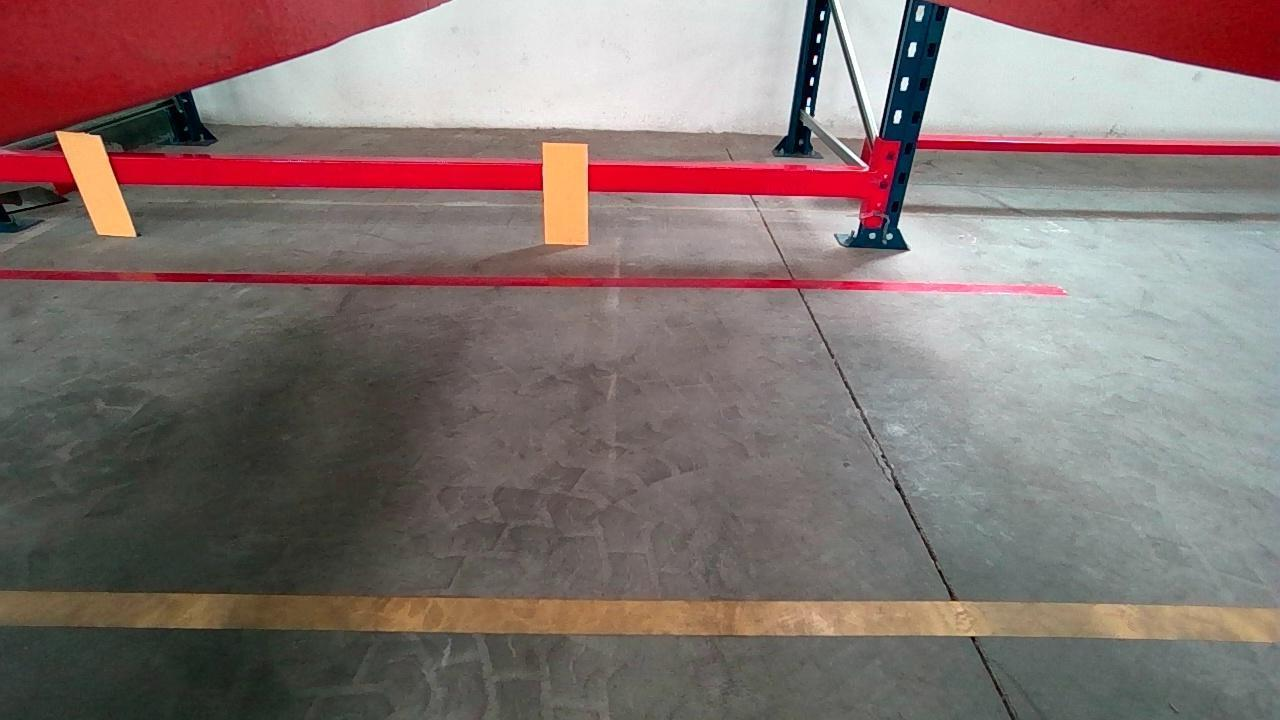h_rack: (0, 151, 871, 197)
orange_strip: (57, 133, 137, 235), (541, 144, 588, 244)
red_line: (0, 265, 1068, 294)
yellow_line: (3, 590, 1279, 646)
